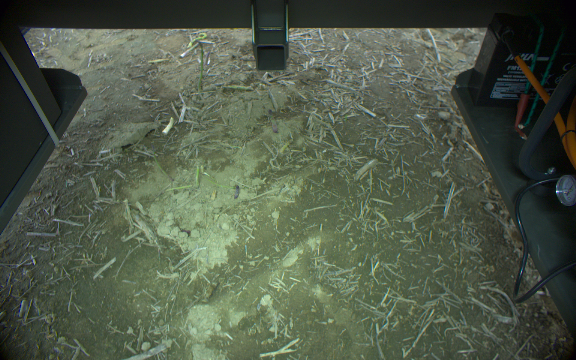aspa: (192, 39, 209, 91), (189, 30, 208, 46)
